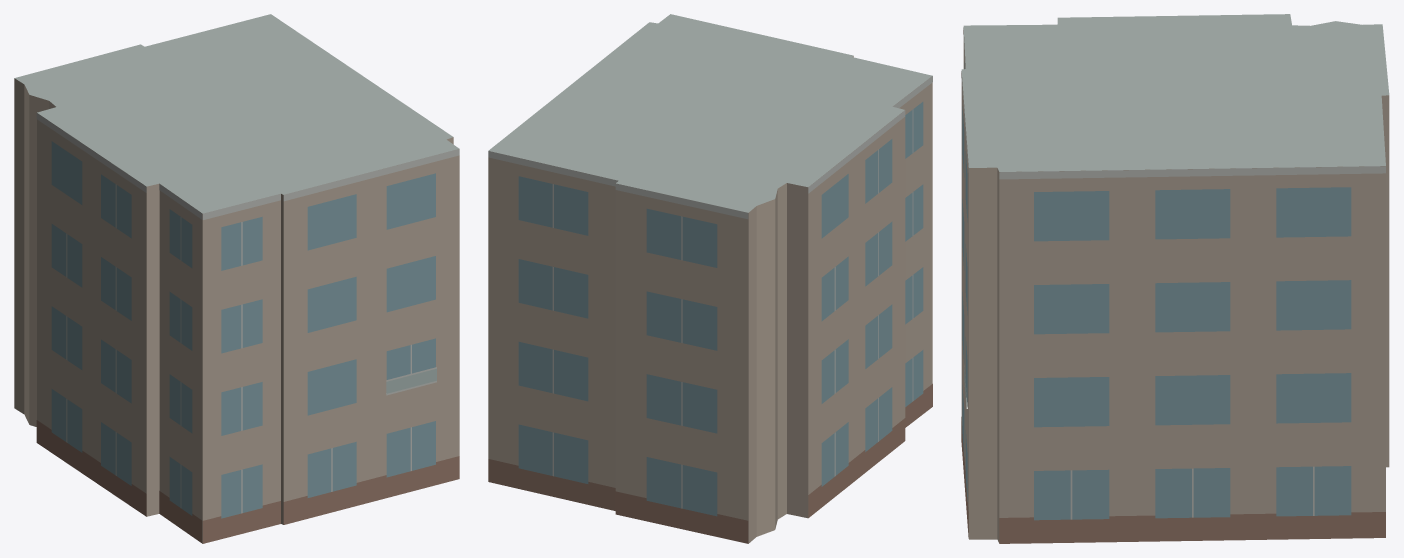
The model's file is survey-upis-32841106.glb.
The picture shows the model from 3 angles, left to right: view 1: azimuth 30°, elevation 25°; view 2: azimuth 150°, elevation 25°; view 3: azimuth 270°, elevation 25°; orthographic projection. The views are drawn at different scales.
Visible parts, largest first — view 1: survey-upis-32841106.tmp; view 2: survey-upis-32841106.tmp; view 3: survey-upis-32841106.tmp.
Part boxes in pixels (x1,y1,x2,y2): survey-upis-32841106.tmp: (14, 14, 459, 543); survey-upis-32841106.tmp: (488, 14, 932, 543); survey-upis-32841106.tmp: (961, 14, 1389, 543).
Bounding box in the file's own units: 11.18 × 12.25 × 12.79.
